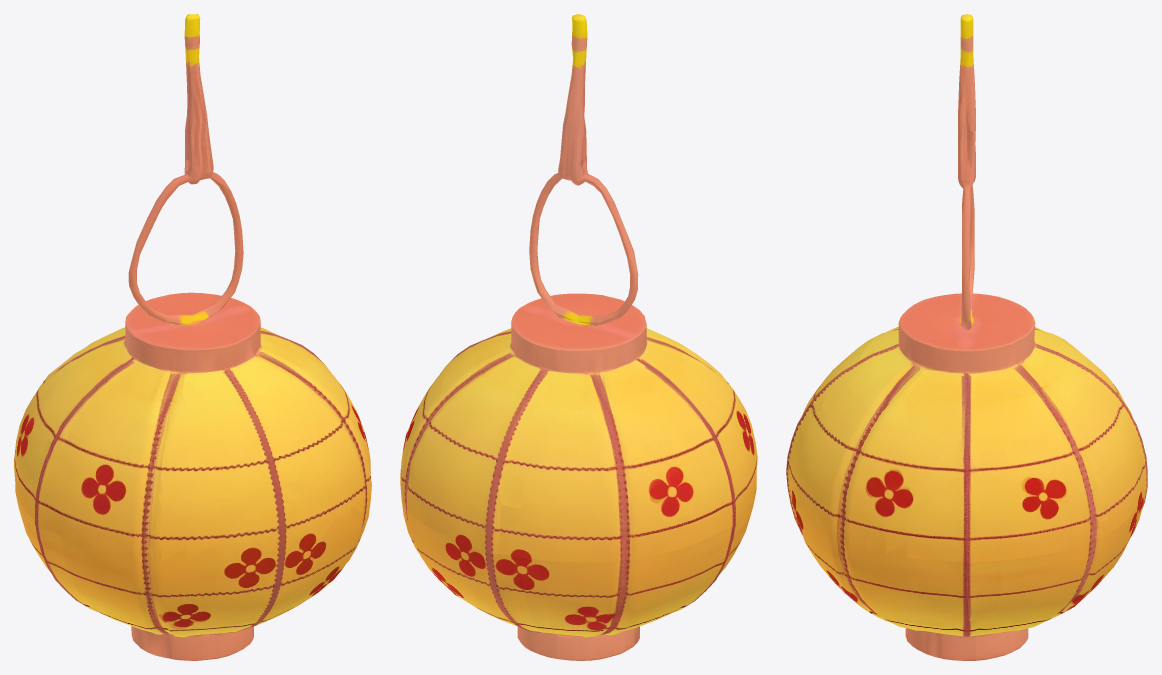
Rendered from s1_gen_lantern.glb.
The picture shows the model from 3 angles, left to right: view 1: azimuth 30°, elevation 25°; view 2: azimuth 150°, elevation 25°; view 3: azimuth 270°, elevation 25°; orthographic projection.
Size of the model in its own units: 1.01 by 1.91 by 1.01.
Materials: 1 (1 with a texture image).
